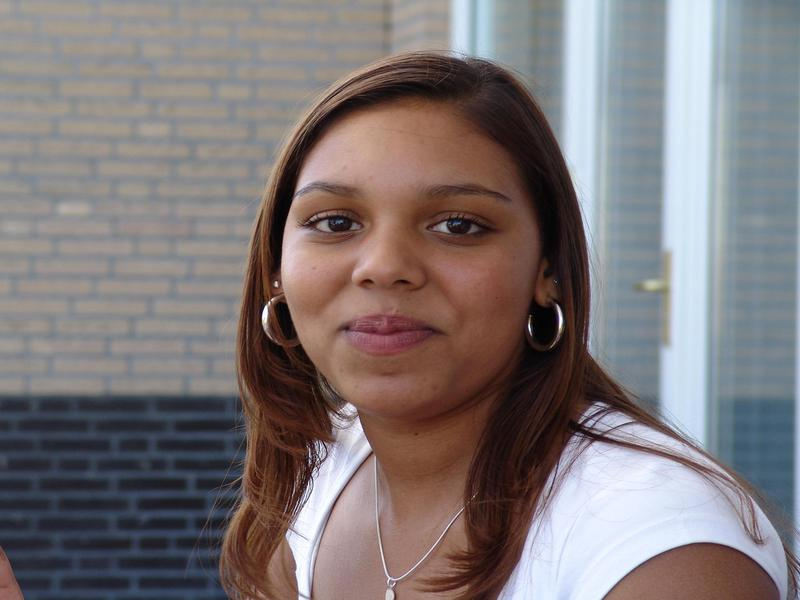person: (202, 52, 791, 600)
